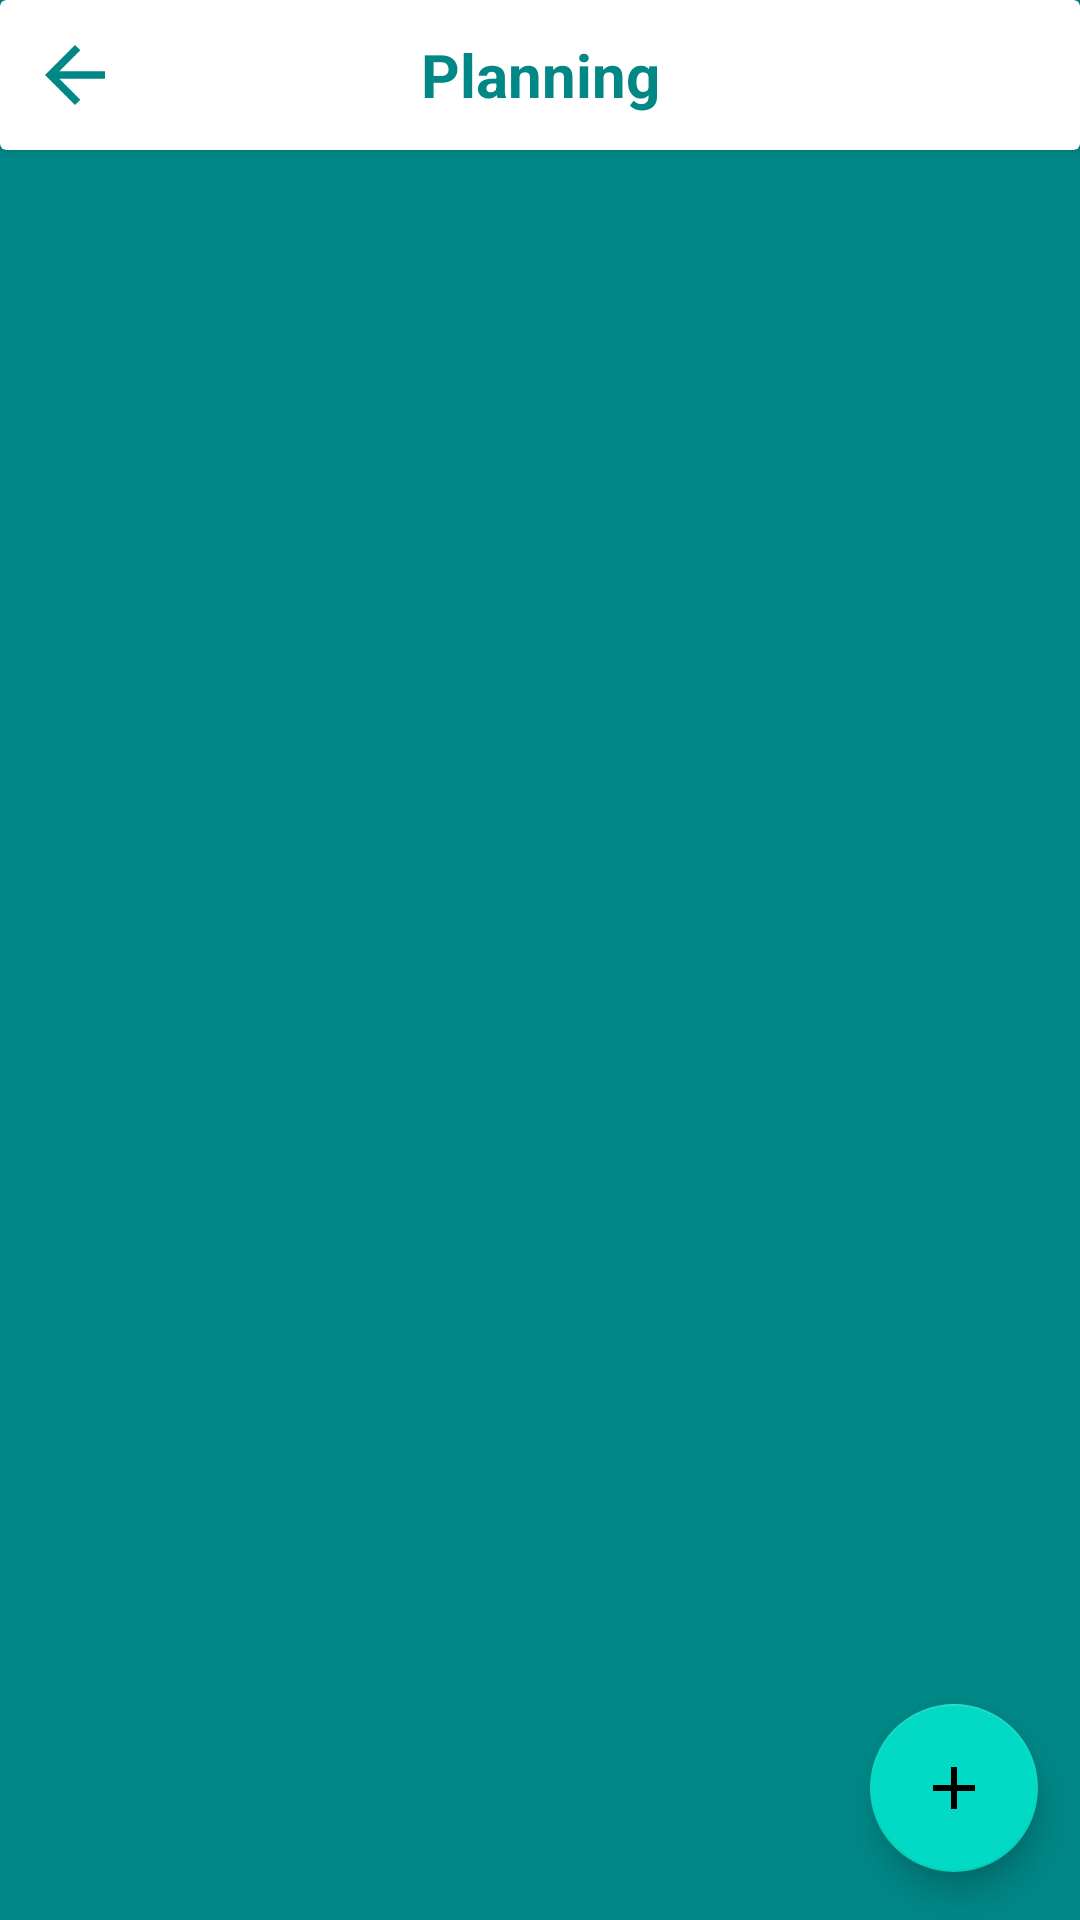

Icons on this 1080w x 1920h Android screen, each with the point to tap as (x=x, y=y):
add: (x=954, y=1788)
arrow back: (x=75, y=75)
